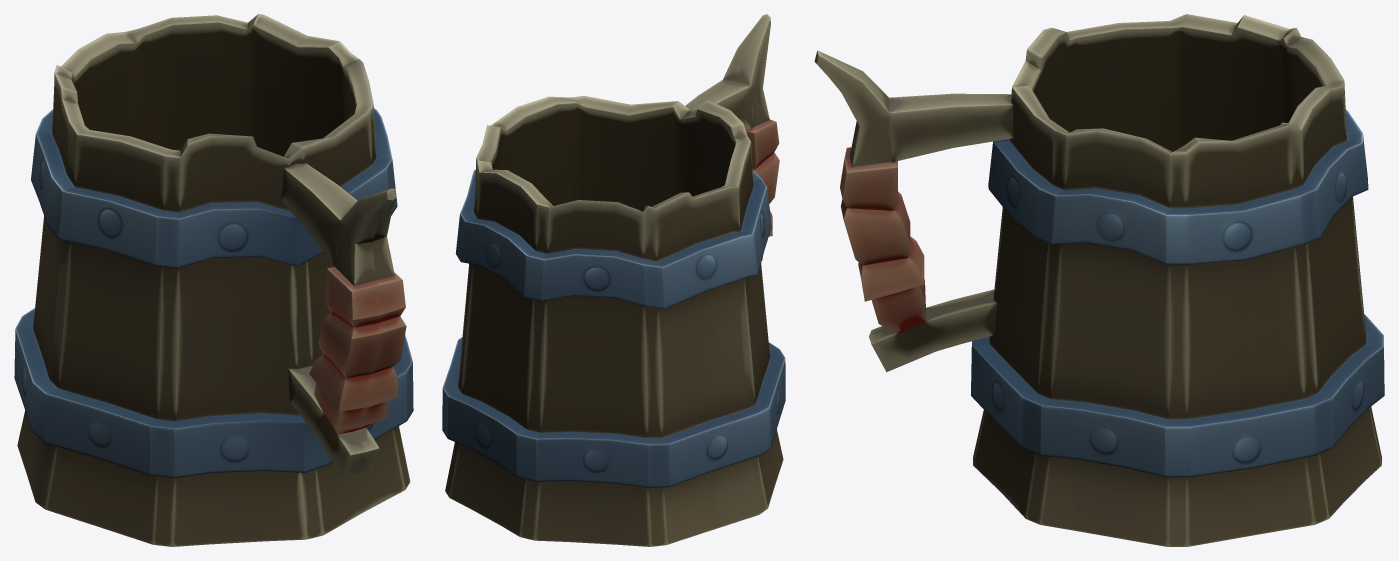
The model's file is SM_Mug.fbx.
3 views of the same model, side by side, from view 1: azimuth 30°, elevation 25°; view 2: azimuth 150°, elevation 25°; view 3: azimuth 270°, elevation 25° (orthographic). The views are drawn at different scales.
Visible parts, largest first — view 1: SM_Mug_LOD0; view 2: SM_Mug_LOD0; view 3: SM_Mug_LOD0.
Part boxes in pixels (x1,y1,x2,y2): SM_Mug_LOD0: (14,14,413,546); SM_Mug_LOD0: (442,14,785,546); SM_Mug_LOD0: (814,14,1384,546).
Bounding box in the file's own units: 21.69 × 30.1 × 23.93.
Materials: 1 (1 with a texture image).
